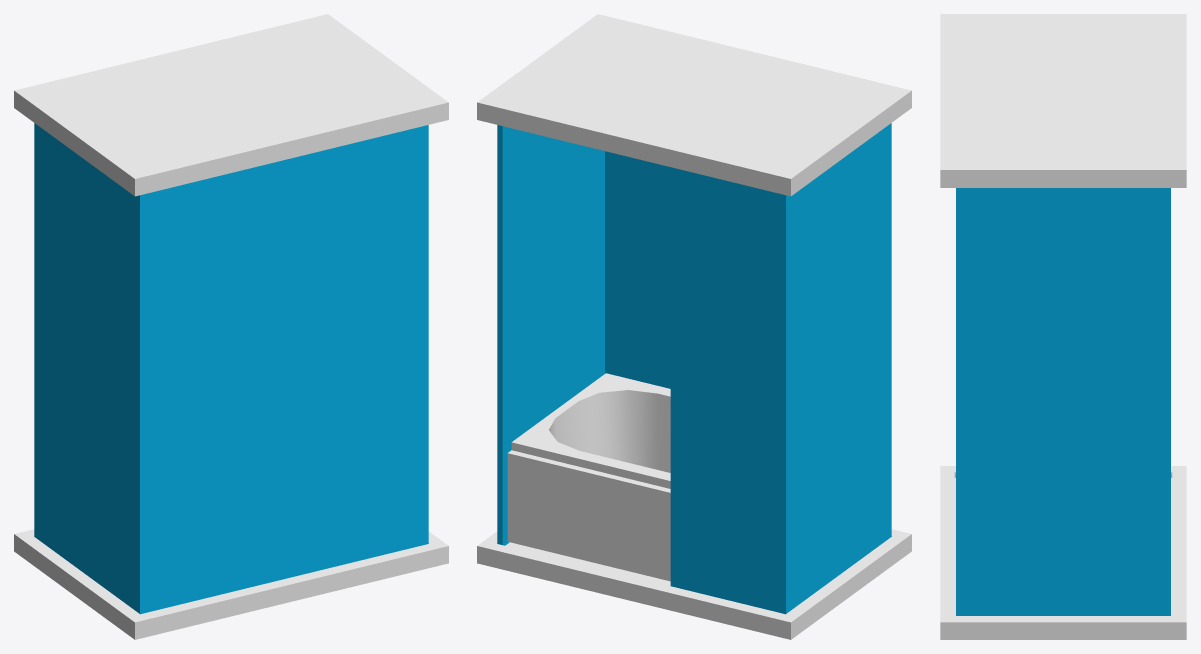
File: bath.glb
The picture shows the model from 3 angles, left to right: view 1: azimuth 30°, elevation 25°; view 2: azimuth 150°, elevation 25°; view 3: azimuth 270°, elevation 25°; orthographic projection.
Parts seen in each view (by area): view 1: 46, 45; view 2: 46, 45, 49; view 3: 46, 45.
Boxes of the visible parts, left/top/right/bottom form: 46: left=34, top=123, right=428, bottom=614; 45: left=14, top=14, right=448, bottom=639; 46: left=497, top=123, right=891, bottom=614; 45: left=477, top=14, right=911, bottom=639; 49: left=507, top=373, right=670, bottom=581; 46: left=956, top=188, right=1170, bottom=615; 45: left=940, top=14, right=1186, bottom=639.
Size of the model in its own units: 6.01 by 8.43 by 4.01.
